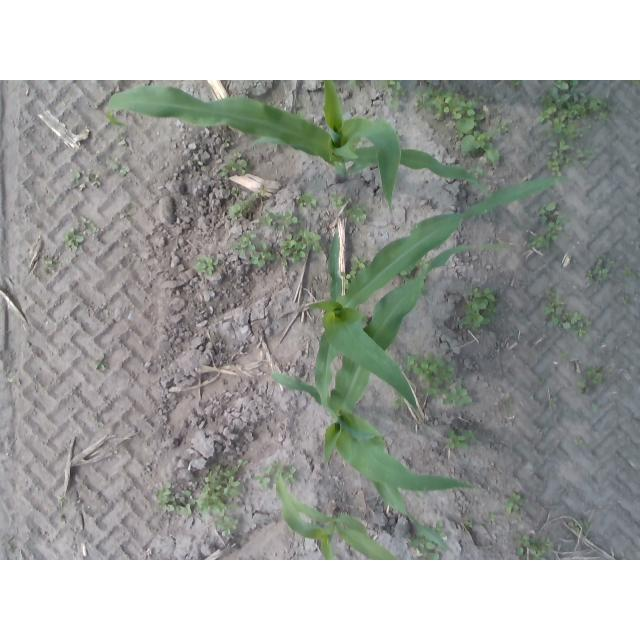Maize: (273, 243, 512, 553), (304, 176, 573, 441), (105, 81, 494, 219), (276, 473, 397, 559)
Weeds: (196, 459, 248, 514), (403, 352, 455, 397), (553, 96, 609, 137), (545, 300, 591, 337), (410, 521, 447, 560), (461, 132, 499, 165), (434, 91, 476, 120), (516, 533, 553, 560), (550, 140, 571, 174), (459, 303, 490, 326), (266, 461, 297, 483), (249, 242, 276, 267), (556, 81, 584, 104), (444, 385, 473, 407), (267, 210, 298, 230), (449, 429, 478, 449), (301, 230, 322, 253), (242, 187, 261, 210), (539, 202, 558, 223), (64, 227, 84, 246), (215, 517, 237, 534), (196, 256, 214, 274), (454, 117, 474, 133), (593, 258, 608, 279), (417, 93, 436, 109), (253, 475, 272, 490), (156, 482, 171, 500), (505, 493, 519, 512), (537, 107, 555, 121), (159, 495, 174, 511), (586, 369, 602, 384), (230, 160, 246, 174), (229, 204, 243, 220), (278, 234, 295, 247), (482, 288, 495, 305), (93, 357, 107, 372), (577, 144, 592, 158), (300, 196, 317, 208), (529, 236, 547, 247), (119, 205, 133, 219), (502, 397, 515, 412), (390, 81, 403, 96), (43, 256, 54, 273), (351, 209, 365, 222), (352, 255, 365, 269), (539, 94, 553, 107), (569, 520, 584, 532), (260, 216, 273, 229), (550, 218, 563, 231), (177, 505, 192, 516), (390, 98, 402, 111), (232, 242, 249, 251), (185, 491, 195, 506), (292, 252, 304, 264), (498, 122, 510, 134), (243, 232, 256, 243), (469, 286, 480, 298), (624, 268, 636, 279), (281, 247, 290, 261), (550, 87, 559, 100), (332, 195, 343, 205), (546, 229, 557, 239), (473, 113, 483, 124), (228, 153, 240, 162), (577, 382, 586, 394), (485, 305, 494, 316), (92, 176, 101, 187), (220, 167, 229, 177), (59, 495, 68, 505), (112, 158, 120, 169), (72, 174, 81, 183), (82, 218, 91, 227), (547, 290, 556, 299), (120, 166, 129, 175), (465, 519, 475, 527), (85, 171, 91, 183), (294, 242, 303, 250), (341, 272, 349, 281), (486, 513, 495, 521), (469, 170, 483, 175), (232, 188, 239, 196), (539, 374, 546, 382), (120, 139, 128, 146), (587, 271, 594, 278), (621, 295, 628, 302), (84, 229, 92, 235), (349, 271, 356, 277), (551, 397, 557, 404), (591, 403, 597, 410), (514, 81, 521, 87), (79, 183, 85, 189), (60, 514, 66, 520), (71, 244, 78, 249), (575, 440, 582, 445), (636, 82, 640, 90), (93, 228, 99, 233), (564, 350, 569, 356)
